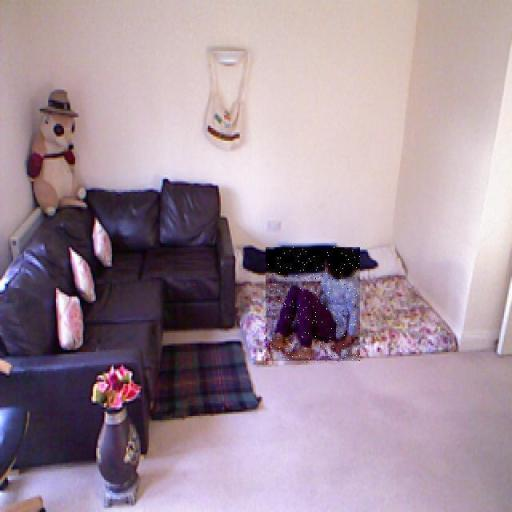Fall: (266, 248, 360, 363)
